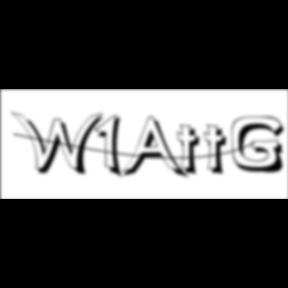1: (94, 114, 128, 182)
A: (121, 116, 190, 182)
W: (11, 110, 109, 178)
t: (176, 124, 207, 179), (204, 124, 234, 179)
